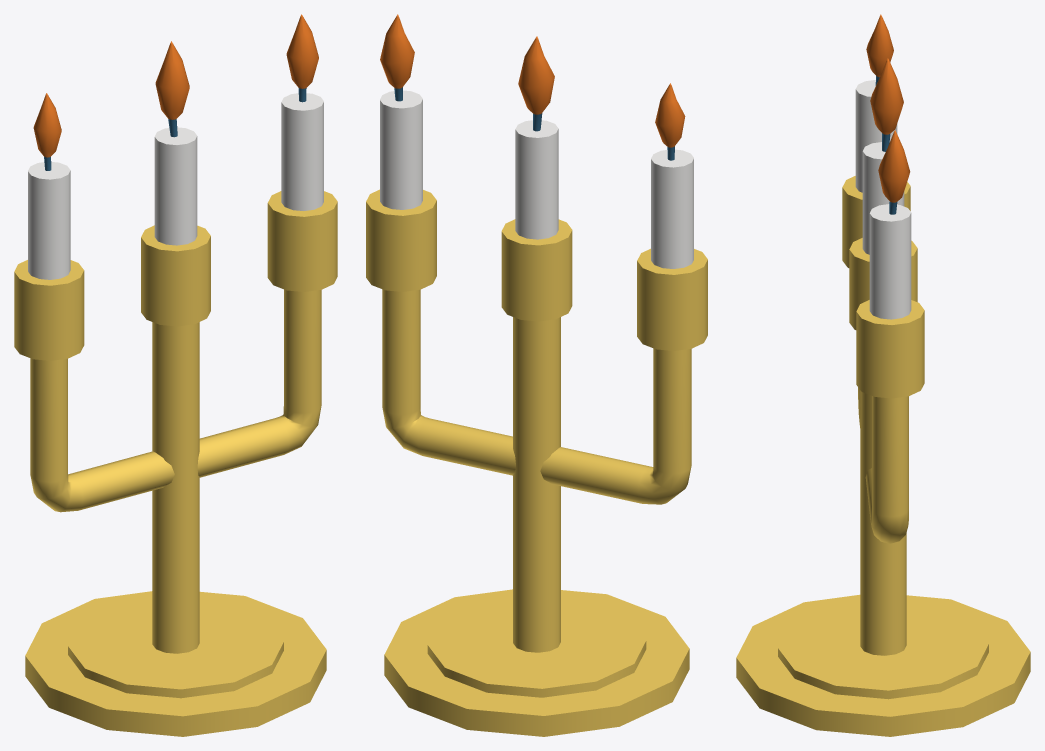
The model's file is Candlestick_231109.glb.
3 views of the same model, side by side, from view 1: azimuth 30°, elevation 25°; view 2: azimuth 150°, elevation 25°; view 3: azimuth 270°, elevation 25° (orthographic). The views are drawn at different scales.
Visible parts, largest first — view 1: Candlestick; view 2: Candlestick; view 3: Candlestick.
Part boxes in pixels (left/top/right/bottom): Candlestick: left=14, top=14, right=337, bottom=736; Candlestick: left=366, top=14, right=707, bottom=736; Candlestick: left=736, top=14, right=1030, bottom=736.
Size of the model in its own units: 0.6567 by 1.23 by 0.5338.
1 material, 1 textured.
